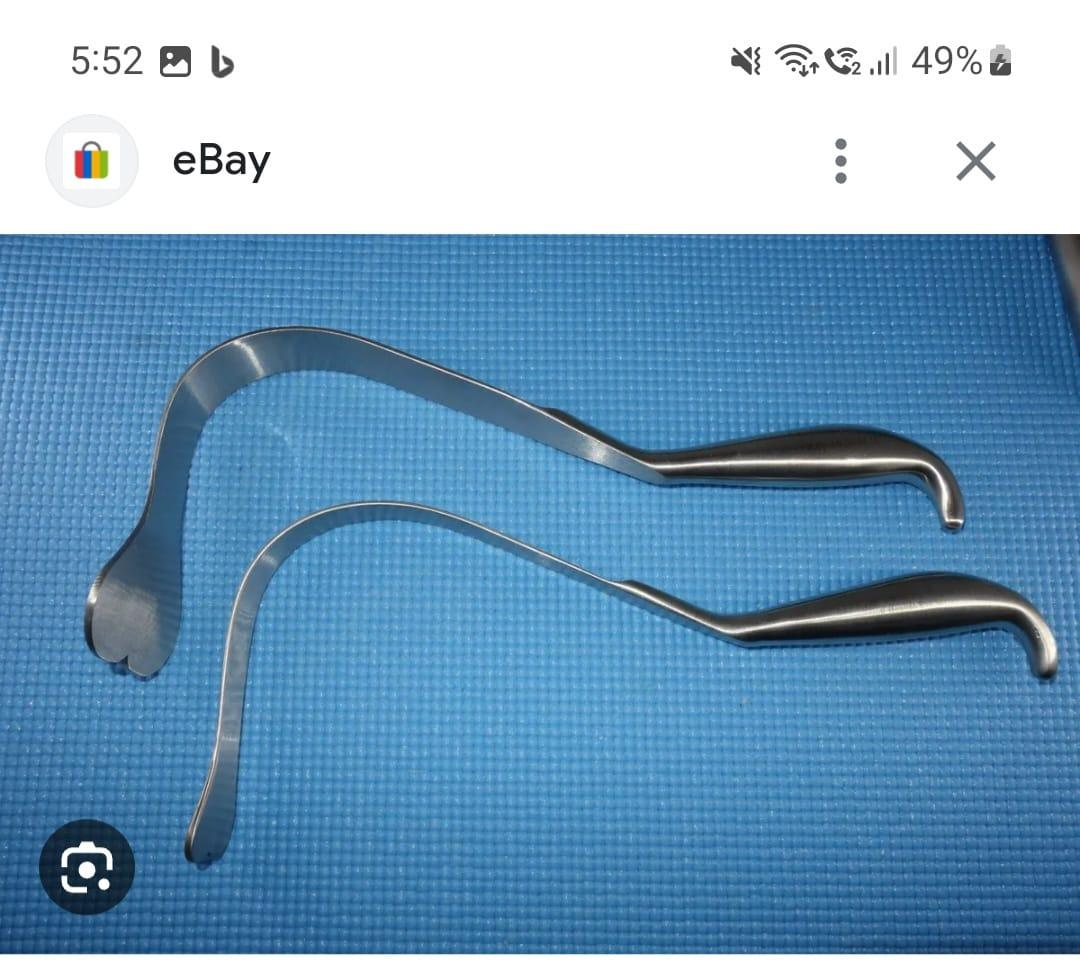Harrington Retractor: (76, 300, 973, 687), (174, 494, 1061, 864)
